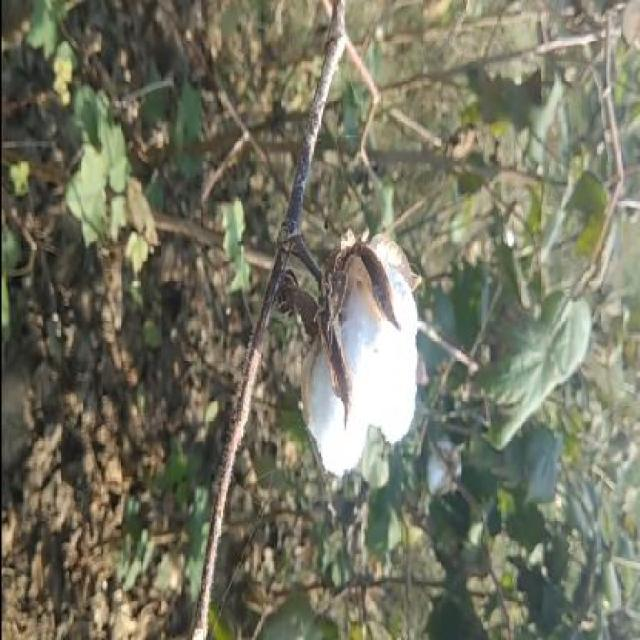cotton_ready: (248, 216, 435, 475)
